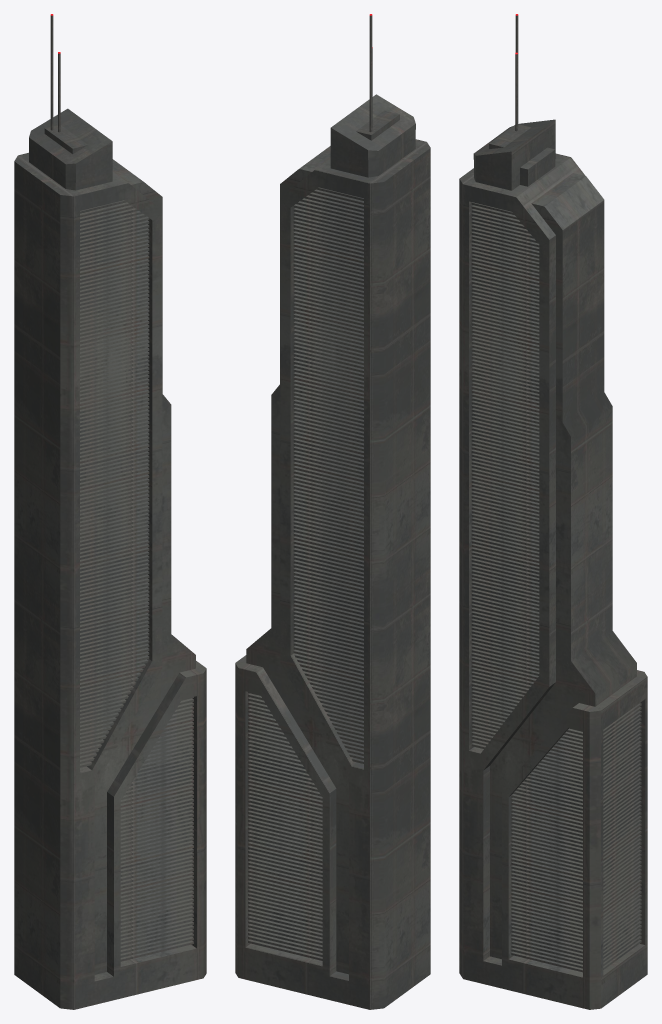
The model's file is cyerpunk-light-show-skyscraper.glb.
The picture shows the model from 3 angles, left to right: view 1: azimuth 30°, elevation 25°; view 2: azimuth 150°, elevation 25°; view 3: azimuth 330°, elevation 25°; orthographic projection. The views are drawn at different scales.
Visible parts, largest first — view 1: Building_2; view 2: Building_2; view 3: Building_2.
Boxes of the visible parts, x1=… form: Building_2: x1=14, y1=14, x2=206, y2=1009; Building_2: x1=235, y1=14, x2=430, y2=1009; Building_2: x1=459, y1=14, x2=647, y2=1009.
Bounding box in the file's own units: 117 × 742 × 78.31.
3 materials, 1 textured.
